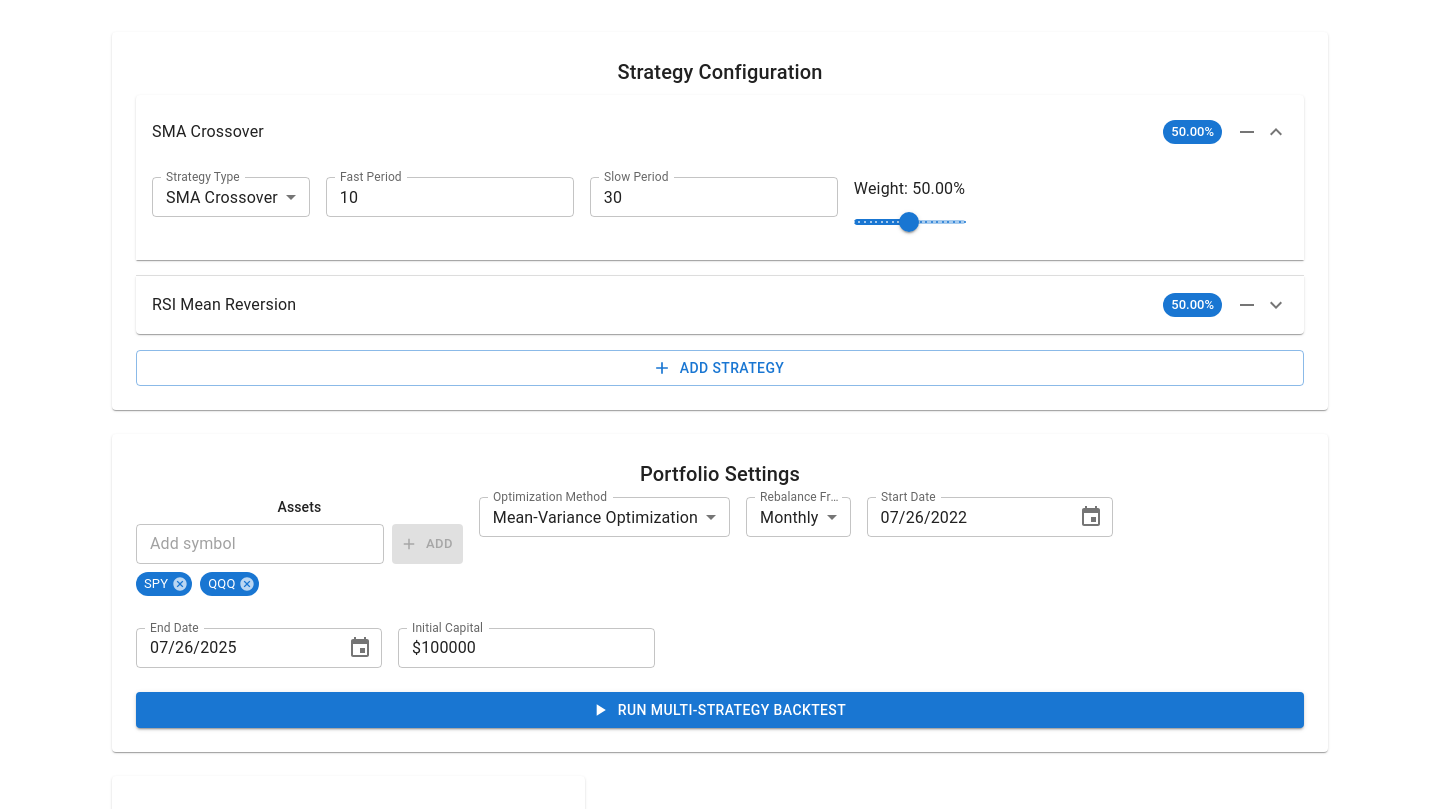
Test: MultiStrategyAnalyzer › removes asset when delete clicked
Click the 1st icon with test id "CancelIcon": x=180, y=584 [172,576,188,592]
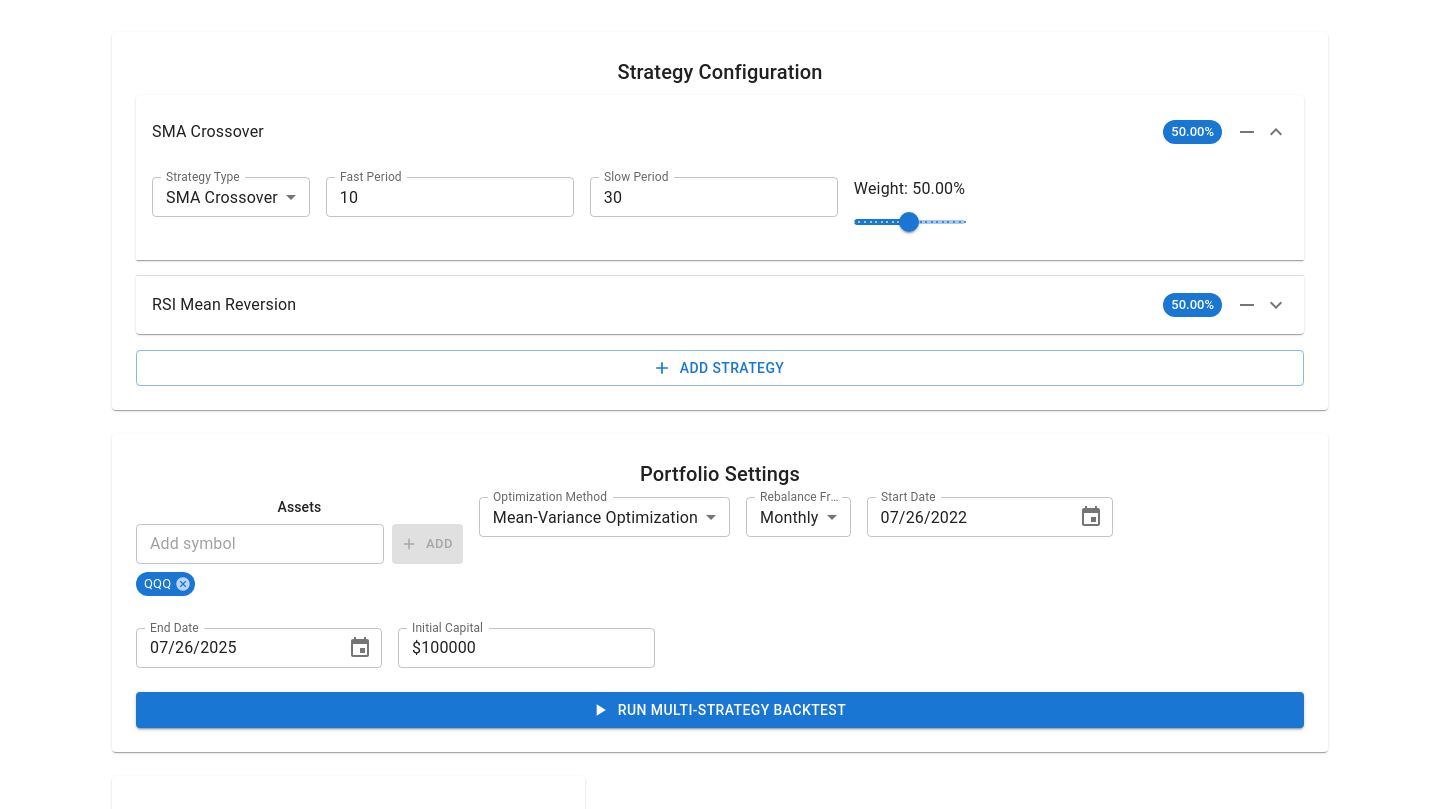
Now the button "SPY" is gone
